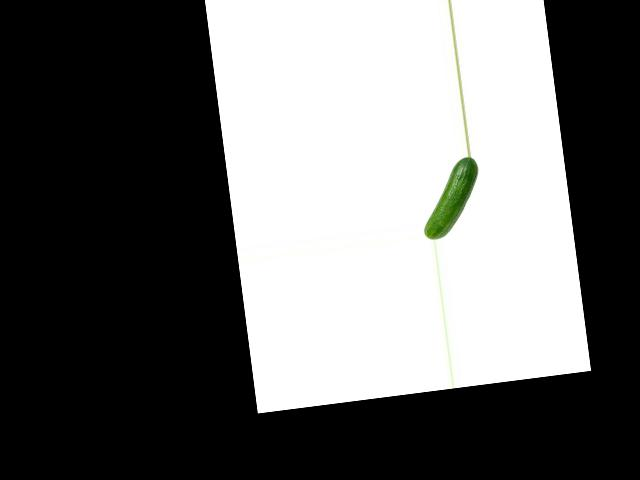cucumber: (415, 155, 487, 241)
